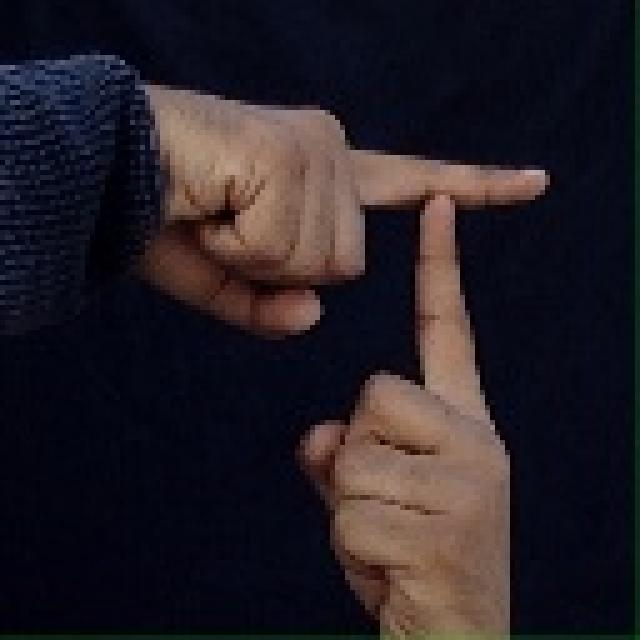Alphabet-T: (76, 55, 554, 638)
